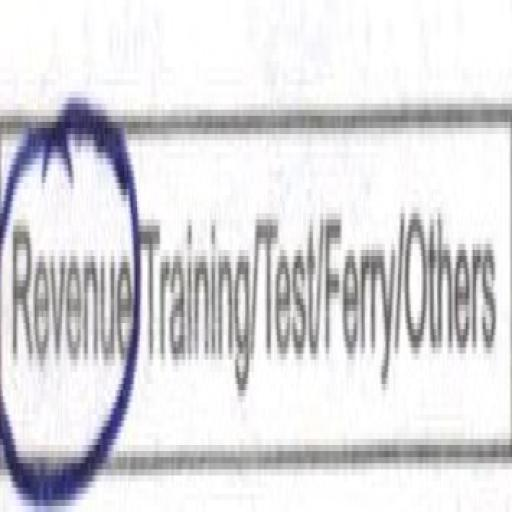check: (0, 61, 134, 506)
